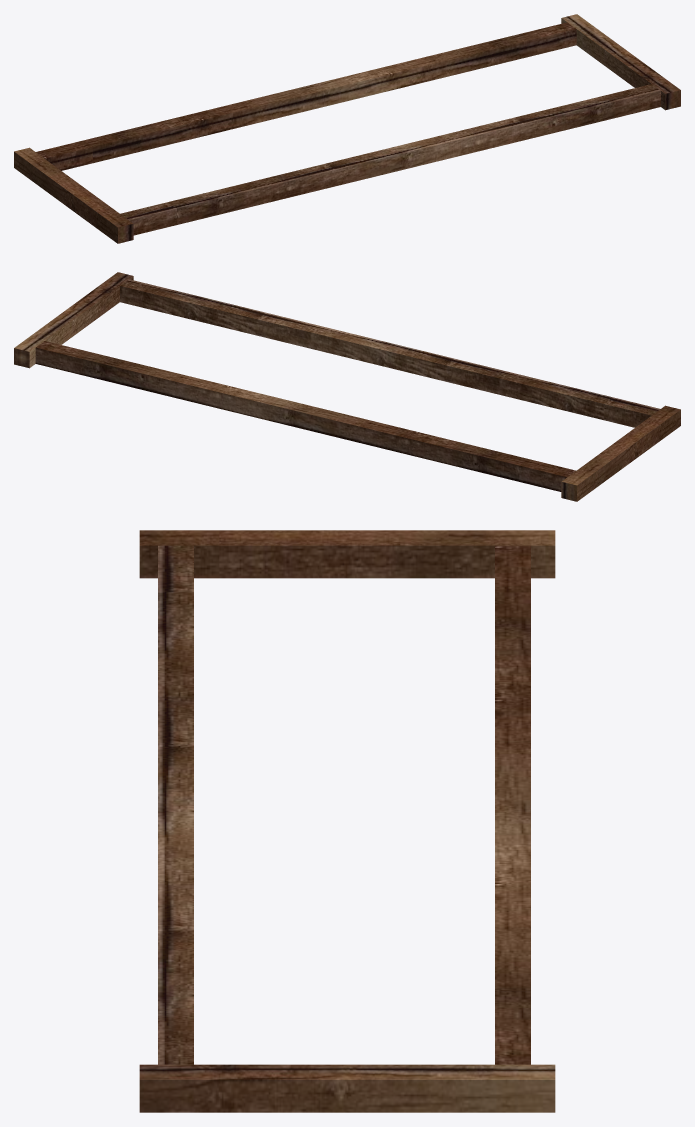
Rendered from porch_frame.fbx.
3 views of the same model, one above another, from view 1: azimuth 30°, elevation 25°; view 2: azimuth 150°, elevation 25°; view 3: azimuth 270°, elevation 25° (orthographic). The views are drawn at different scales.
Parts seen in each view (by area): view 1: polySurface218; view 2: polySurface218; view 3: polySurface218.
Boxes of the visible parts, x1,y1,x2,y2 form: polySurface218: (14,14,680,243); polySurface218: (14,272,680,501); polySurface218: (139,530,555,1112).
Size of the model in its own units: 583 by 16.2 by 186.
